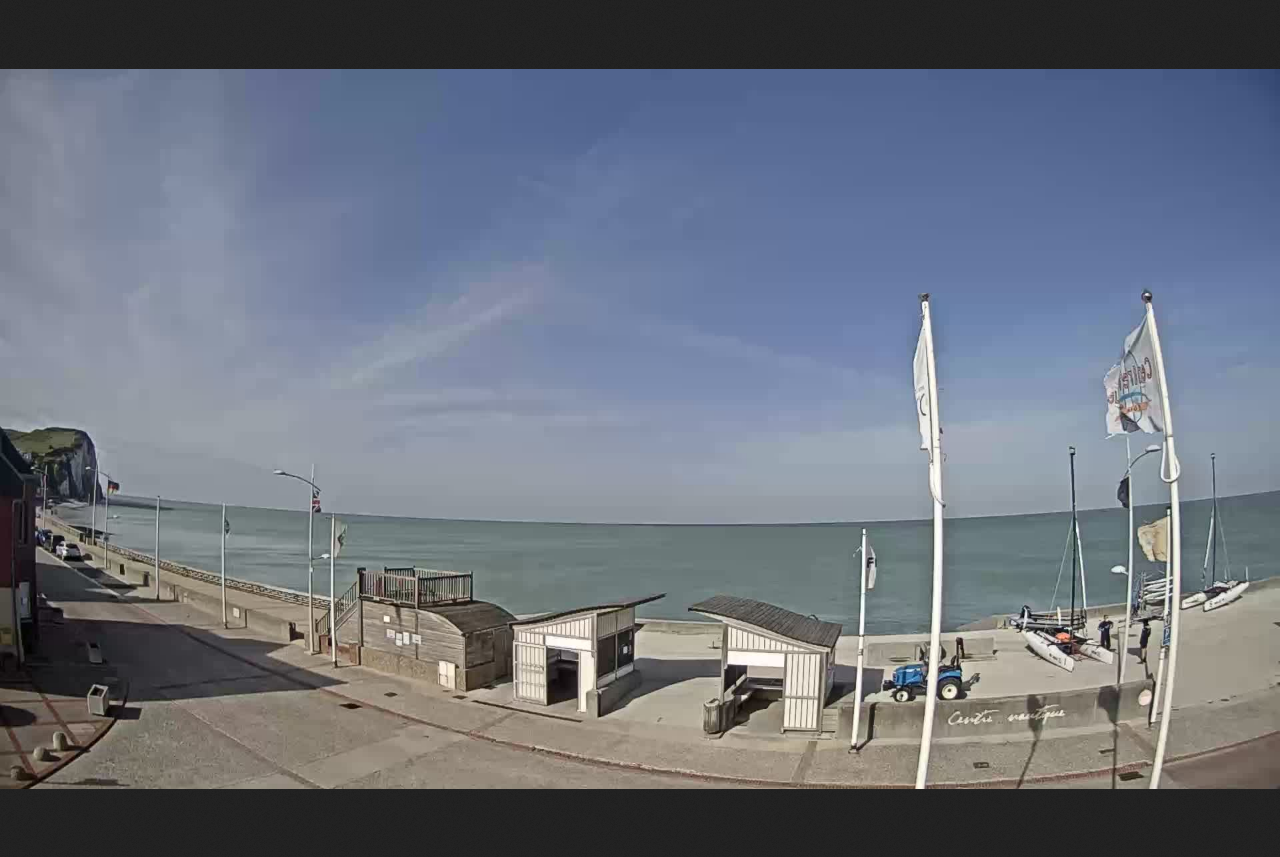maybe: (1096, 276, 1181, 447), (910, 293, 943, 464), (860, 526, 882, 599), (327, 510, 353, 563)
